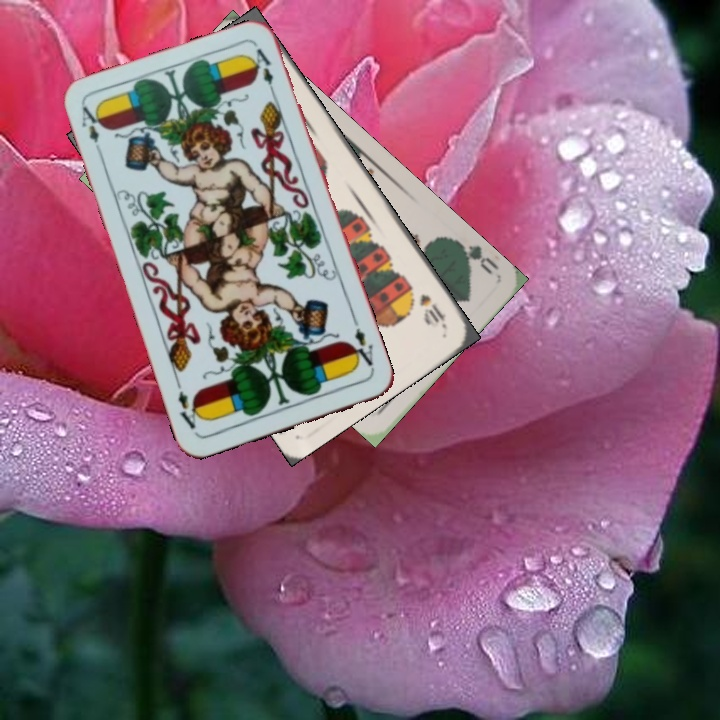EA: (77, 101, 107, 159), (346, 324, 377, 374)
GO: (449, 235, 502, 277)
S10: (415, 290, 450, 331)
